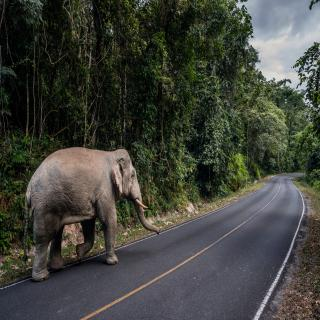Elephant: (20, 142, 172, 288)
